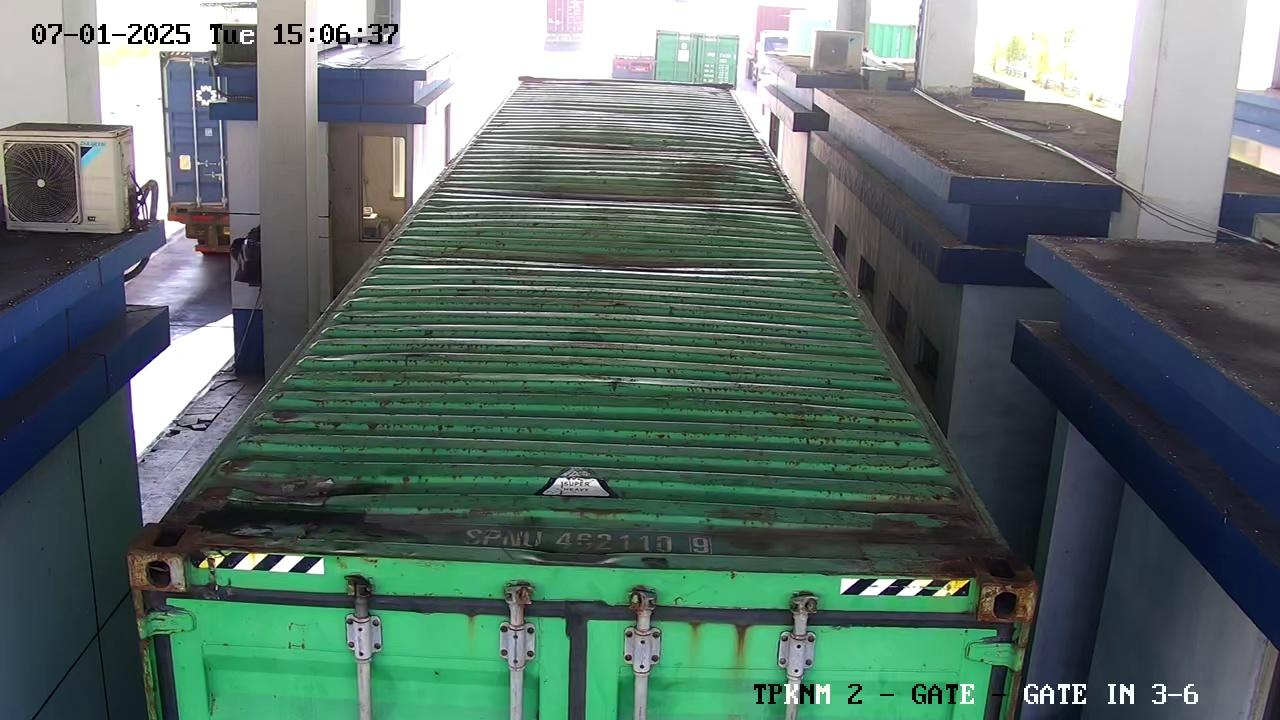Container_ID: (452, 515, 724, 569)
